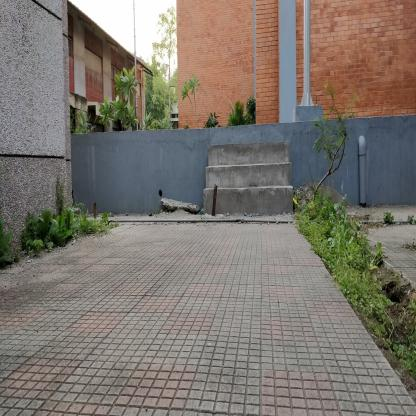stairs: (219, 116, 292, 225)
